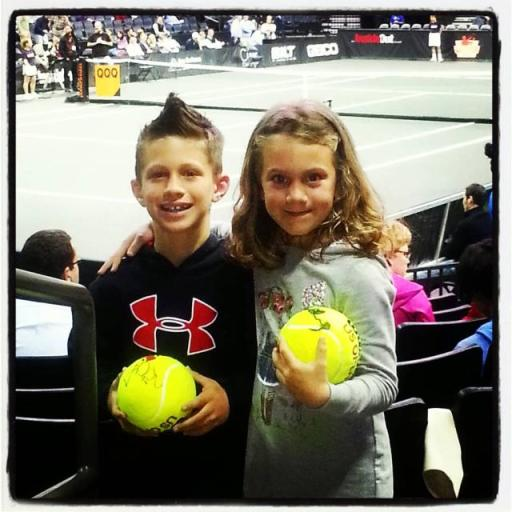Under Armour: (130, 291, 219, 358)
